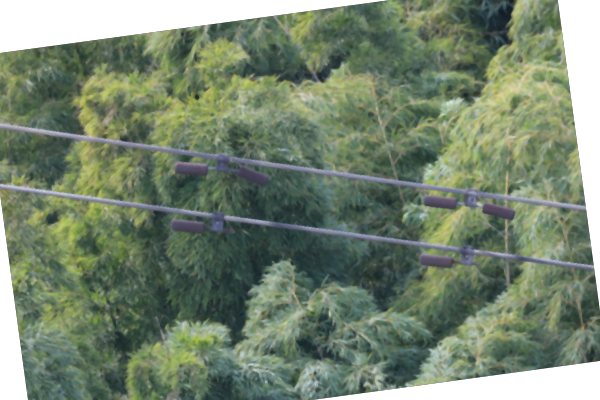damper: (420, 186, 516, 221), (172, 152, 270, 186)
damper_defect: (169, 211, 247, 237), (418, 243, 478, 268)
